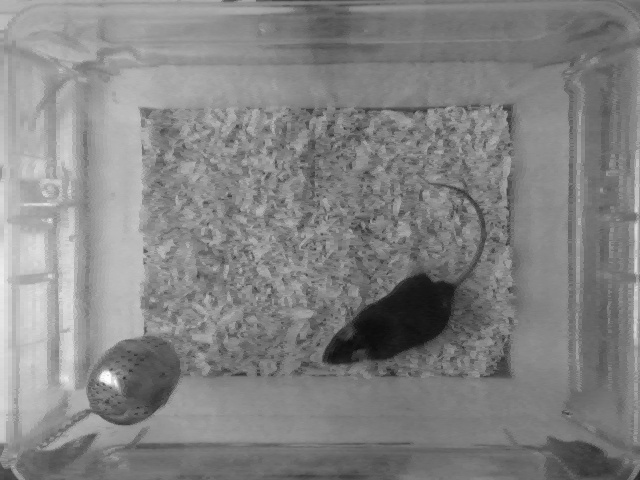mice: (319, 174, 486, 370)
